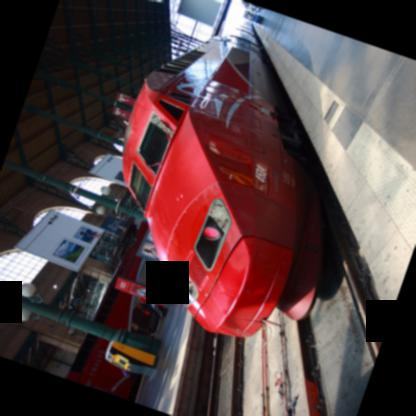suitcase: (155, 306, 165, 317)
